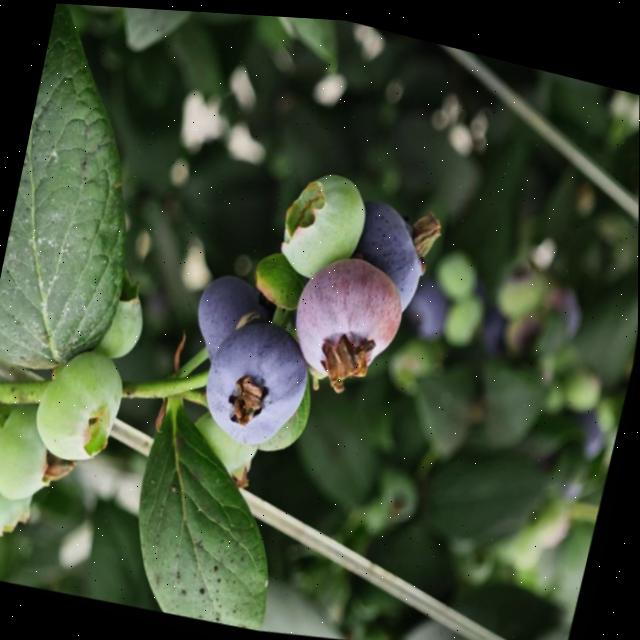RipeBlueBerry: (192, 299, 329, 469)
Semi-RipeBlueBerry: (282, 237, 421, 399)
UnripeBlueBerry: (26, 333, 142, 478), (269, 158, 381, 297)
